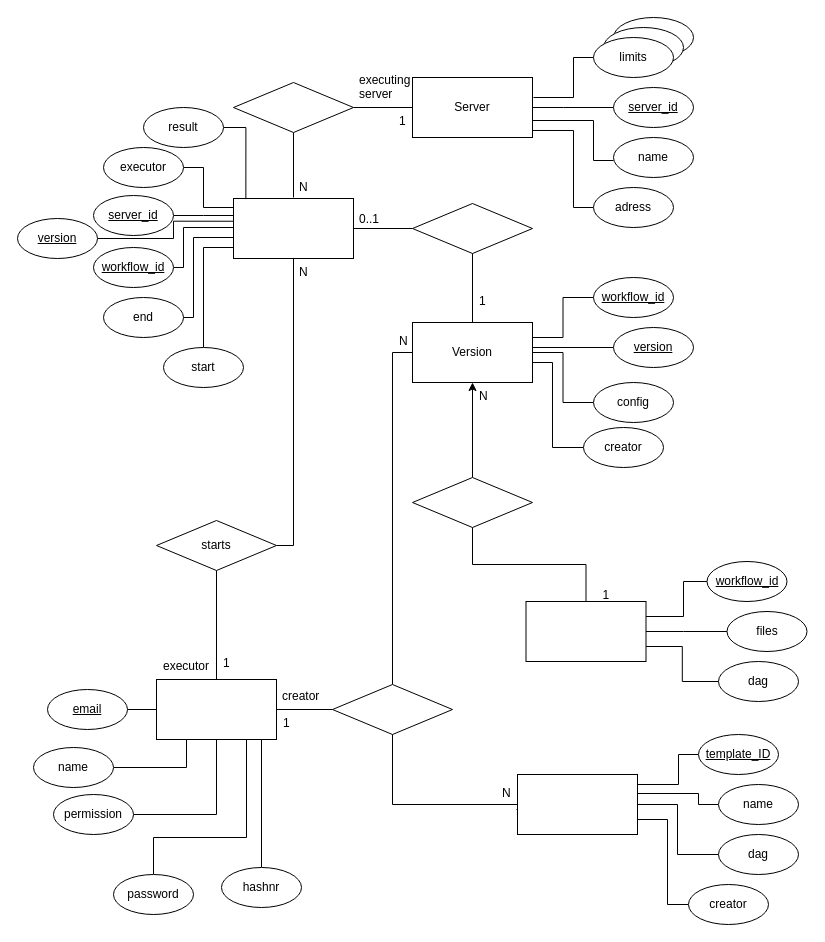
Image size: 825x942. Some labels were removed from this diagram. Here are the shapes that lost their labels. From the top down, the centre of each, then its label:
At (x=293, y=107): "executes".
At (x=293, y=228): "Execution".
At (x=472, y=228): "runs".
At (x=472, y=502): "is".
At (x=585, y=631): "Workflow".
At (x=216, y=709): "User".
At (x=392, y=709): "create".
At (x=577, y=804): "Workflow_Template".
